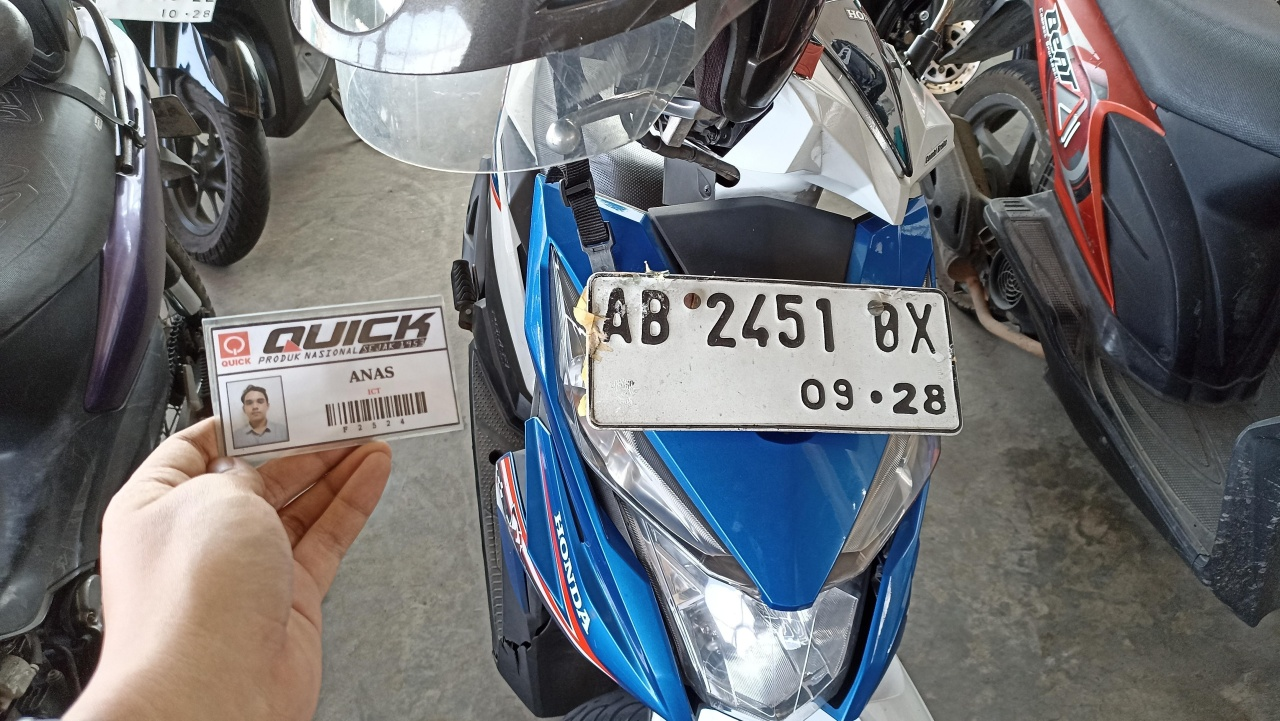plate: (590, 274, 963, 433)
